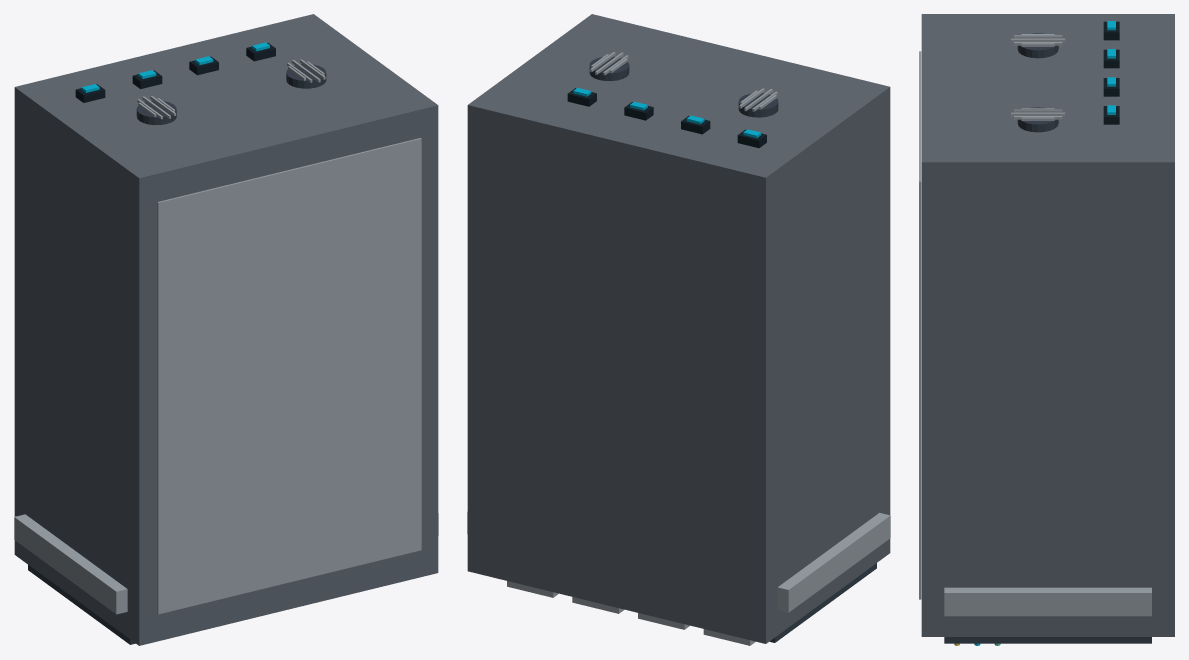
The model's file is dell_poweredge_xe9680_gpu.glb.
3 views of the same model, side by side, from view 1: azimuth 30°, elevation 25°; view 2: azimuth 150°, elevation 25°; view 3: azimuth 270°, elevation 25° (orthographic).
Visible parts, largest first — view 1: 000_server chassis, 063_top seam, 072_rack mounting ear, 001_front bezel; view 2: 000_server chassis, 072_rack mounting ear, 001_front bezel; view 3: 000_server chassis, 075_rack mounting ear, 063_top seam, 001_front bezel, 046_rear fan 2, 037_rear fan 1.
Part boxes in pixels (x1,y1,x2,y2): 000_server chassis: [14, 14, 438, 645]; 063_top seam: [157, 138, 421, 614]; 072_rack mounting ear: [14, 514, 127, 614]; 001_front bezel: [28, 565, 135, 644]; 000_server chassis: [467, 14, 890, 643]; 072_rack mounting ear: [777, 512, 890, 612]; 001_front bezel: [769, 563, 876, 642]; 000_server chassis: [921, 14, 1174, 636]; 075_rack mounting ear: [944, 587, 1151, 616]; 063_top seam: [919, 51, 921, 599]; 001_front bezel: [944, 637, 1151, 643]; 046_rear fan 2: [1017, 107, 1058, 132]; 037_rear fan 1: [1017, 33, 1058, 58].
Bounding box in the file's own units: 0.5193 × 0.764 × 0.3515.
